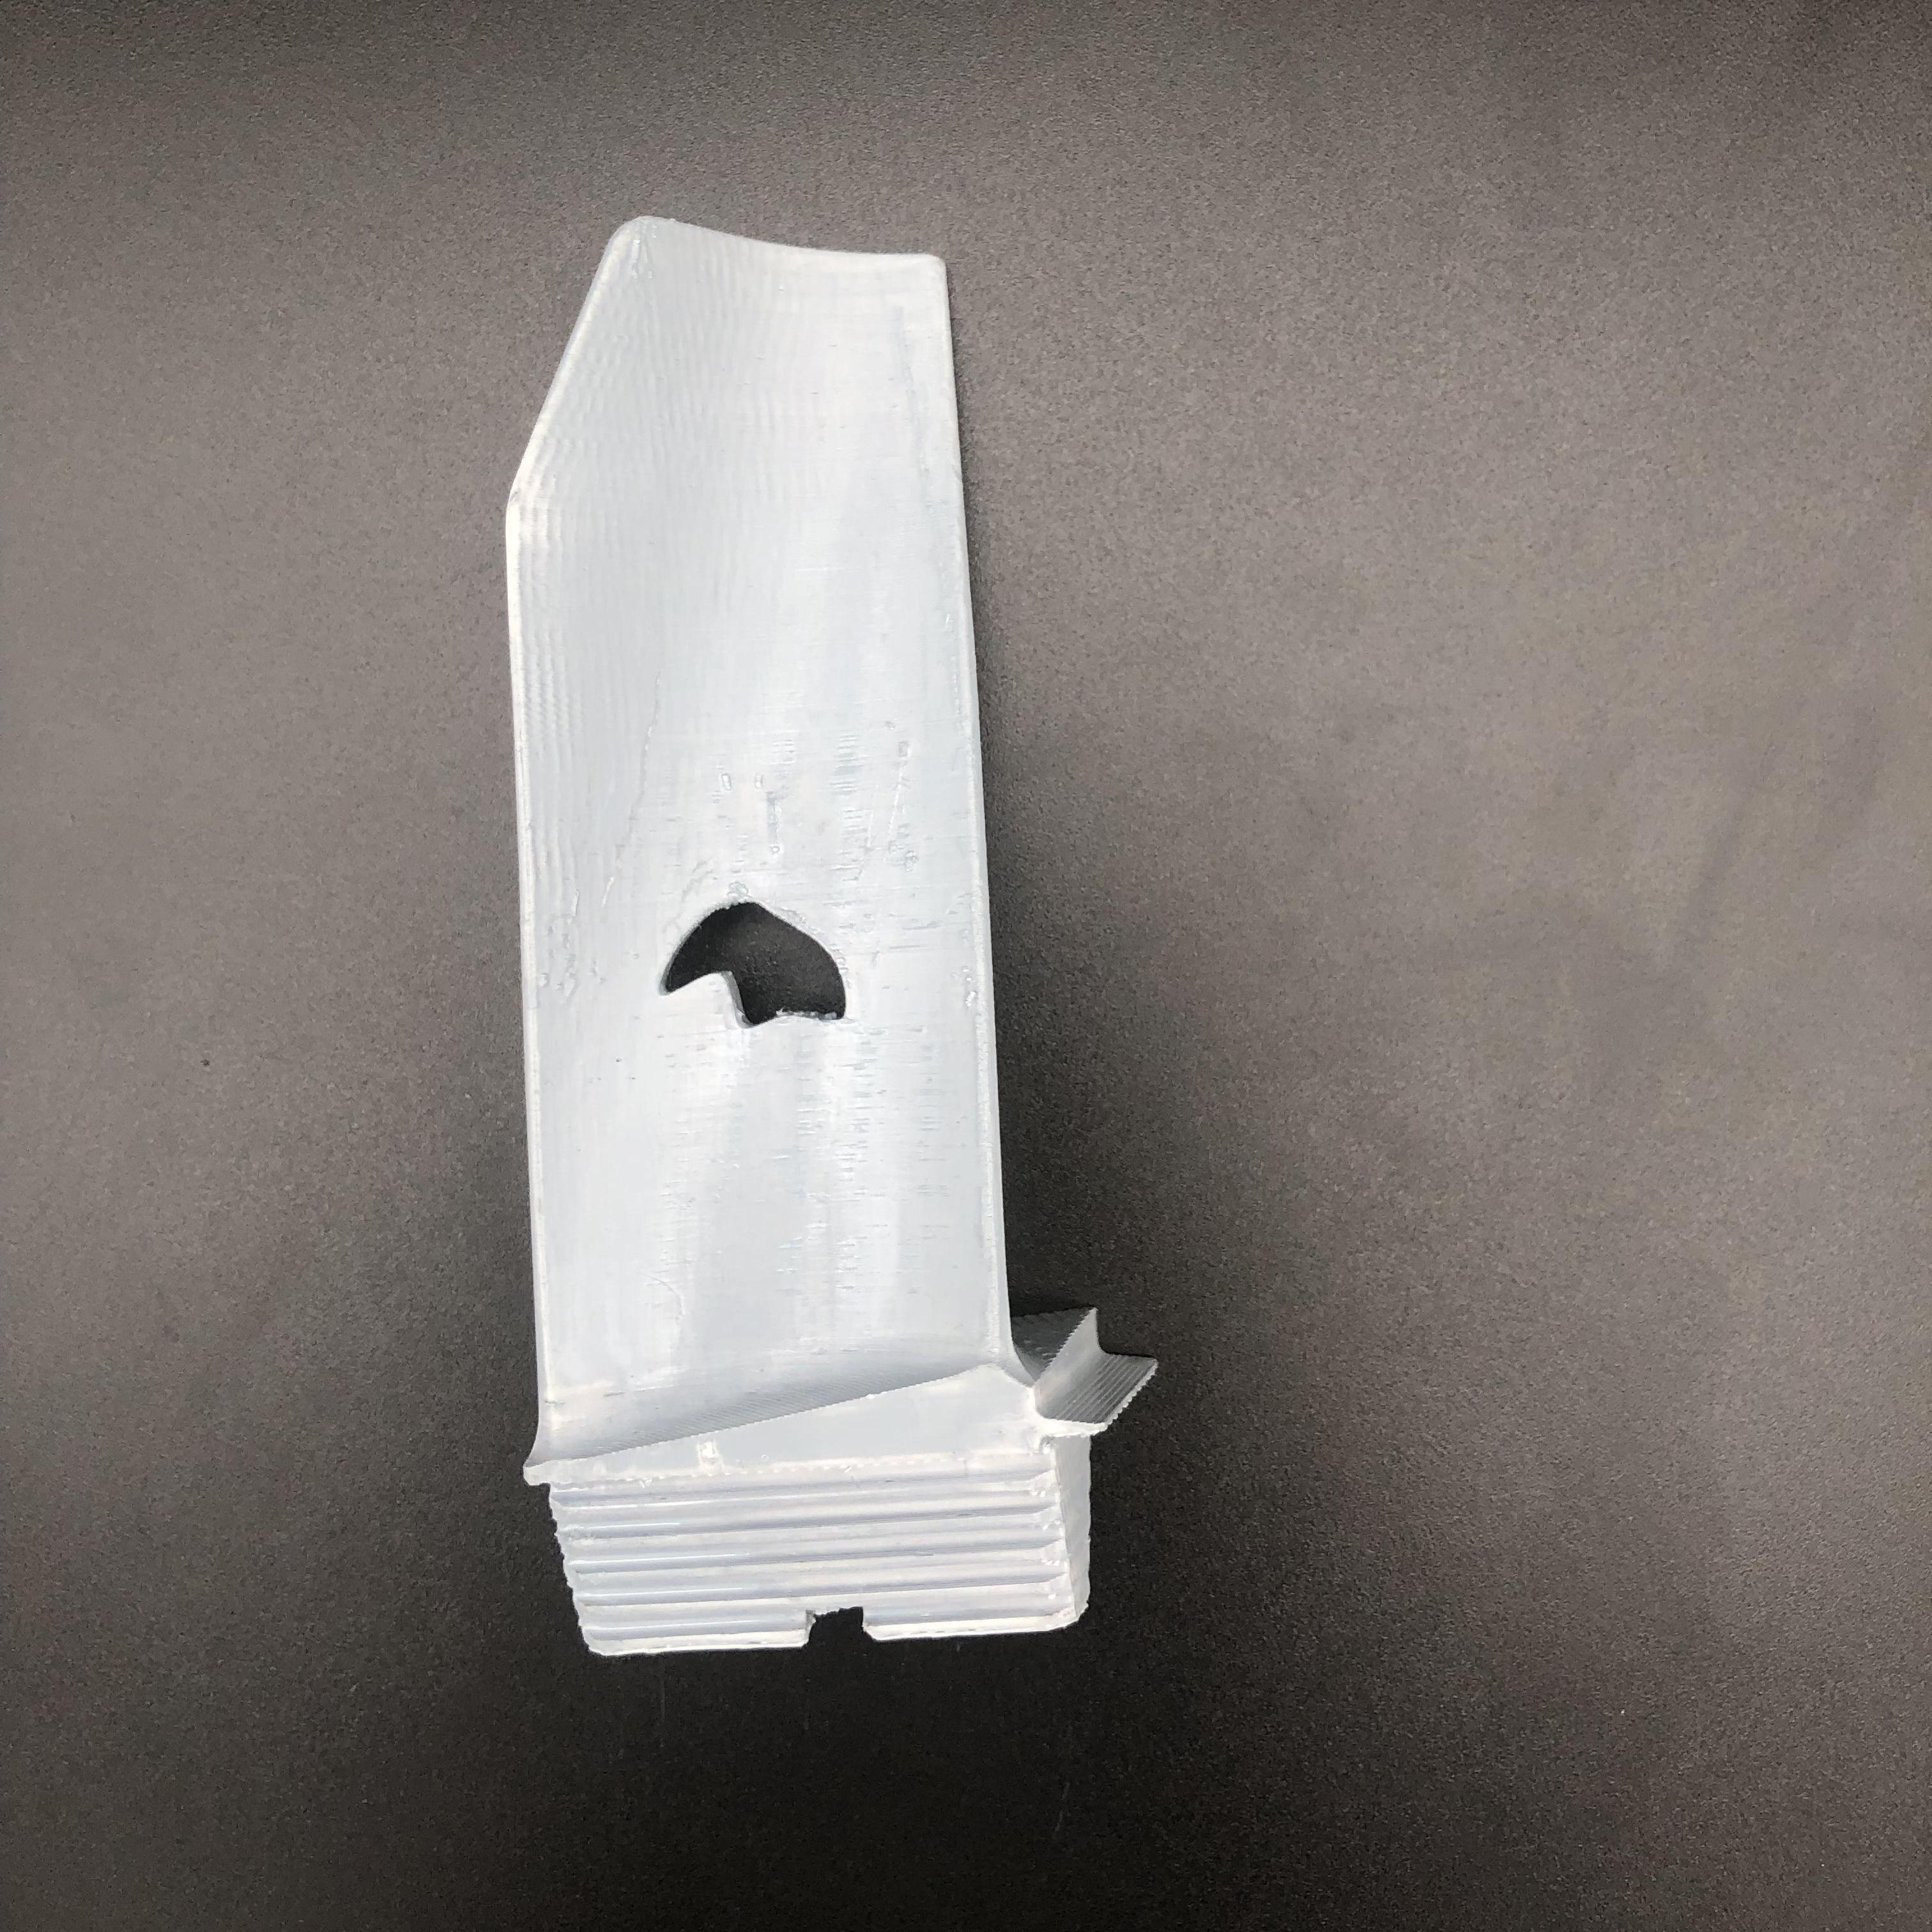breakdown: (651, 876, 872, 1040)
